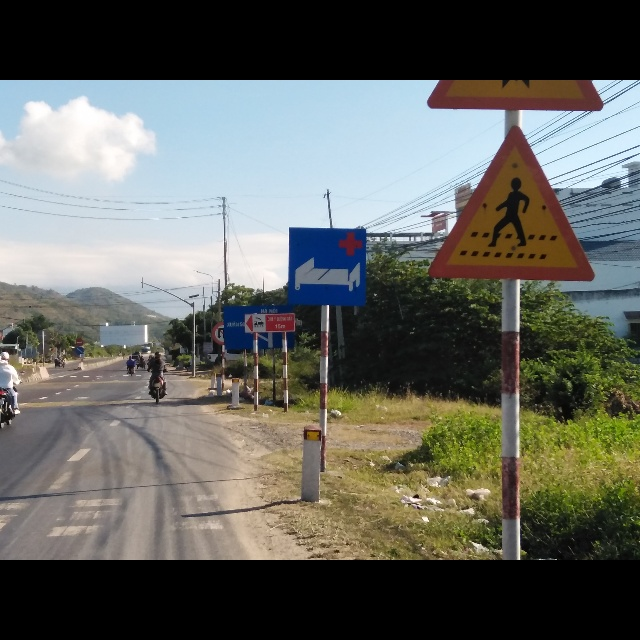Bệnh viện: (286, 226, 368, 308)
Đường người đi bộ sang đường: (424, 126, 593, 279)
